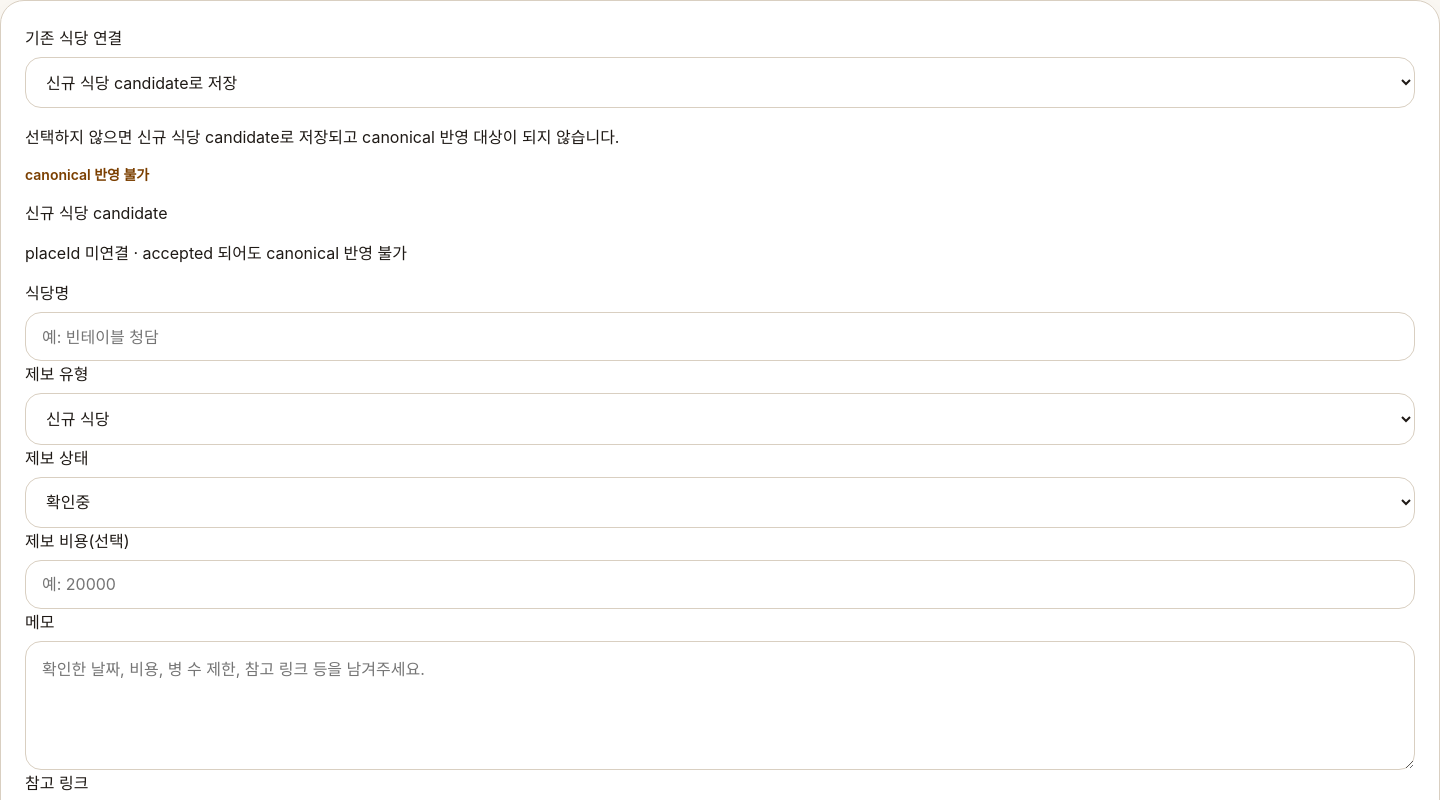
Test: ReportForm › stores matched existing restaurant reports with an explicit placeId
The width and height of the screenshot is (1440, 800).
Select "시즈널 누들랩 · 성수" in the dropdown labelled "기존 식당 연결" at (720, 83), box [25,57,1415,108]
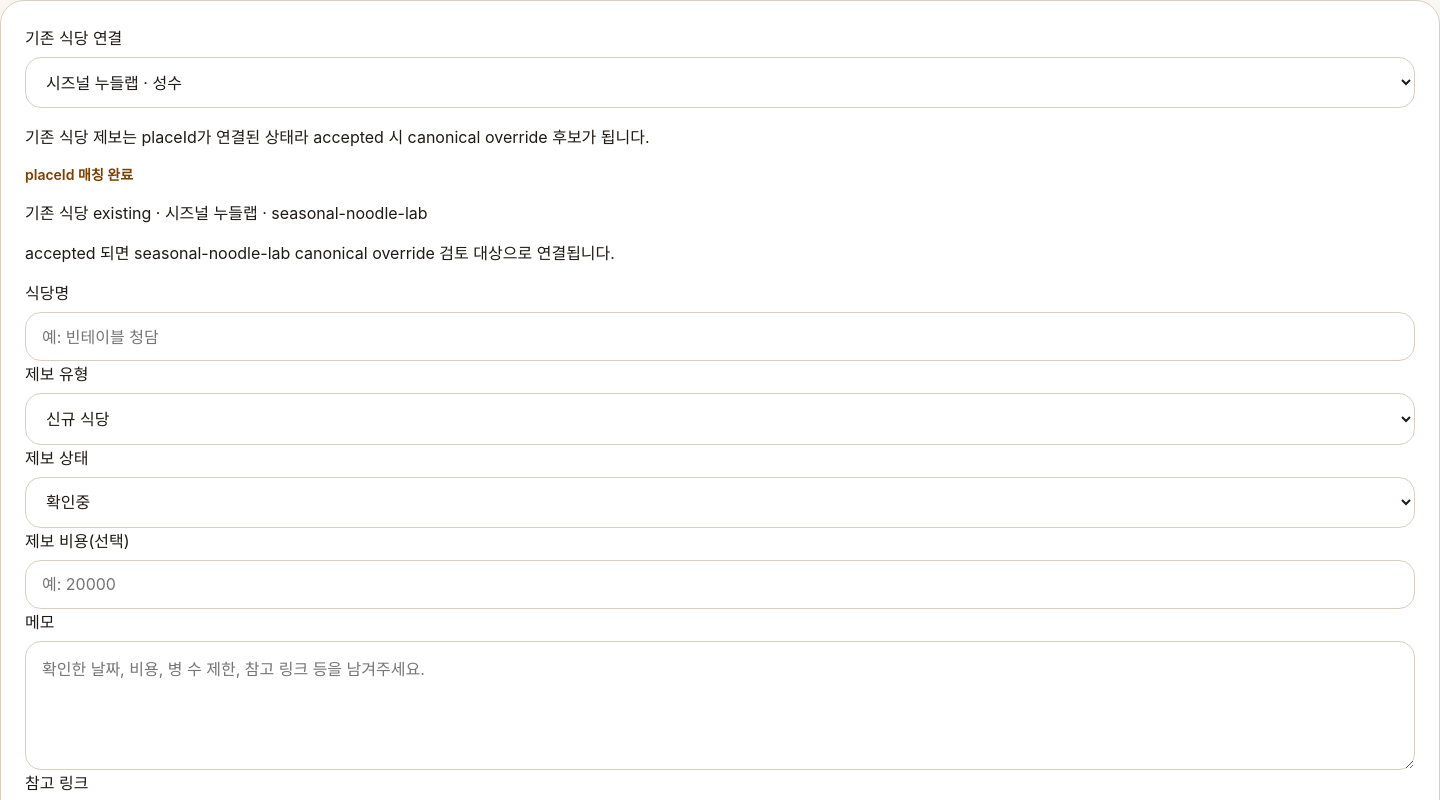
Type "와인 1병 반입 가능 확인" into the text box labelled "메모" at (720, 706), box [25,641,1415,770]
(page scrolled)
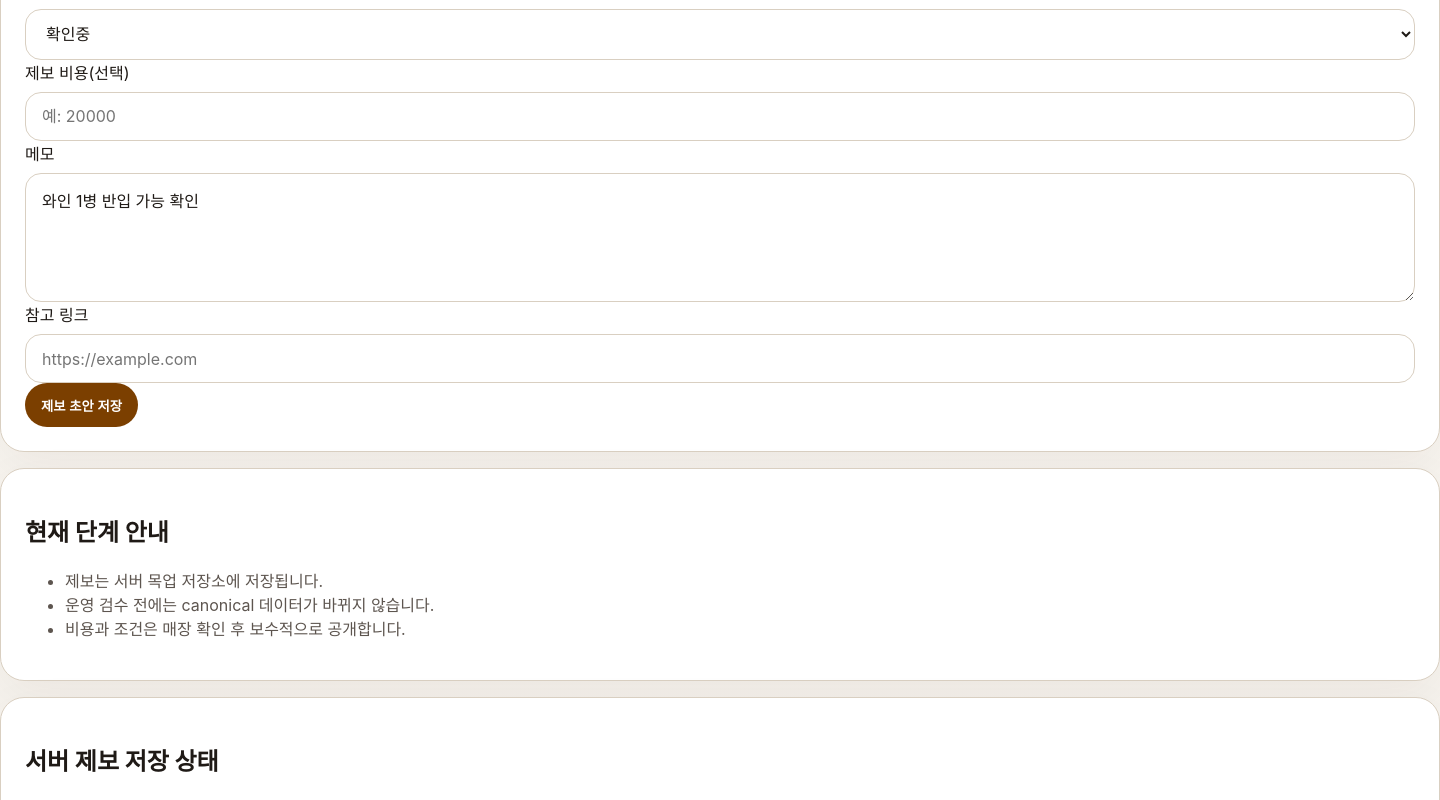
Click the button "제보 초안 저장" at (82, 405), box [25,383,138,427]
(page scrolled)
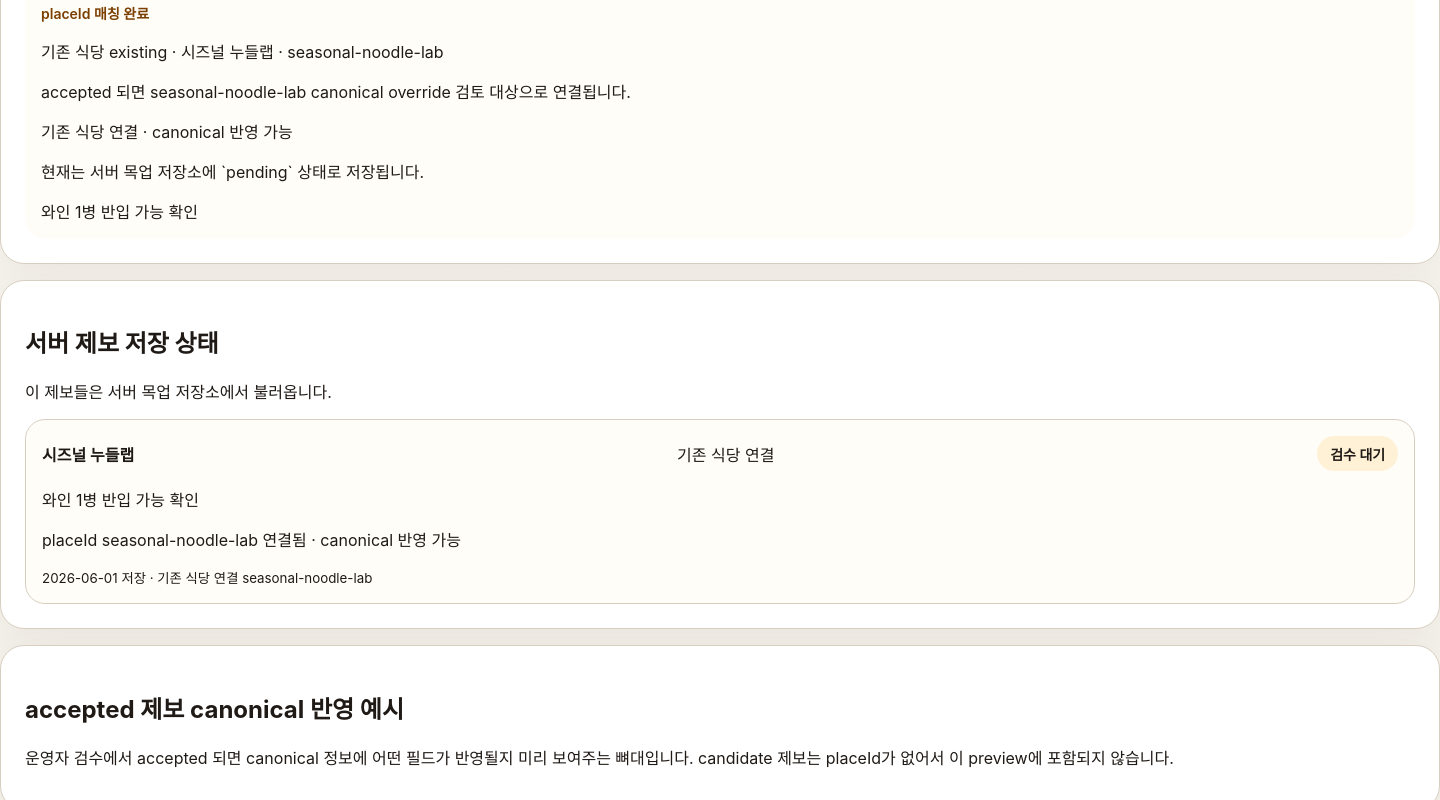
Check: the message shows "placeId 매칭 완료", box [41,5,149,22]
Check: the message shows "기존 식당 existing · 시즈널 누들랩 · seasonal-noodle-lab", box [41,42,444,62]
Check: the message shows "accepted 되면 seasonal-noodle-lab canonical override 검토 대상으로 연결됩니다.", box [41,82,631,102]
